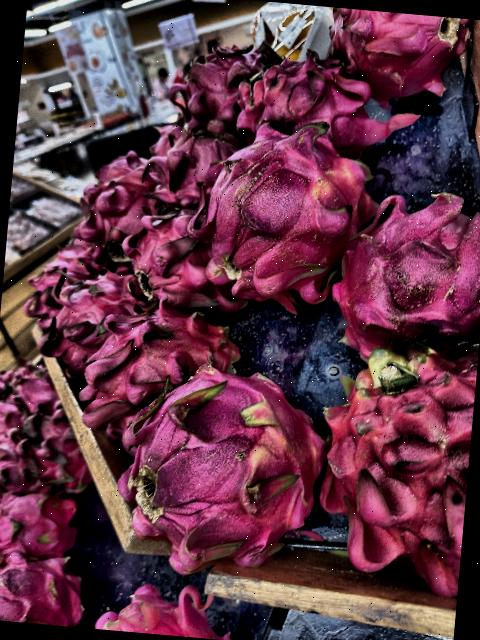buah-naga-matang: (296, 335, 478, 602), (118, 366, 334, 572), (201, 122, 382, 306), (339, 186, 480, 362), (78, 305, 248, 442), (232, 46, 425, 160), (316, 7, 474, 98), (111, 208, 226, 319), (138, 118, 248, 210), (32, 276, 132, 364), (161, 40, 253, 130), (0, 491, 87, 576), (96, 578, 218, 638), (13, 416, 104, 489), (0, 552, 85, 627), (70, 177, 154, 240), (0, 435, 41, 505)
